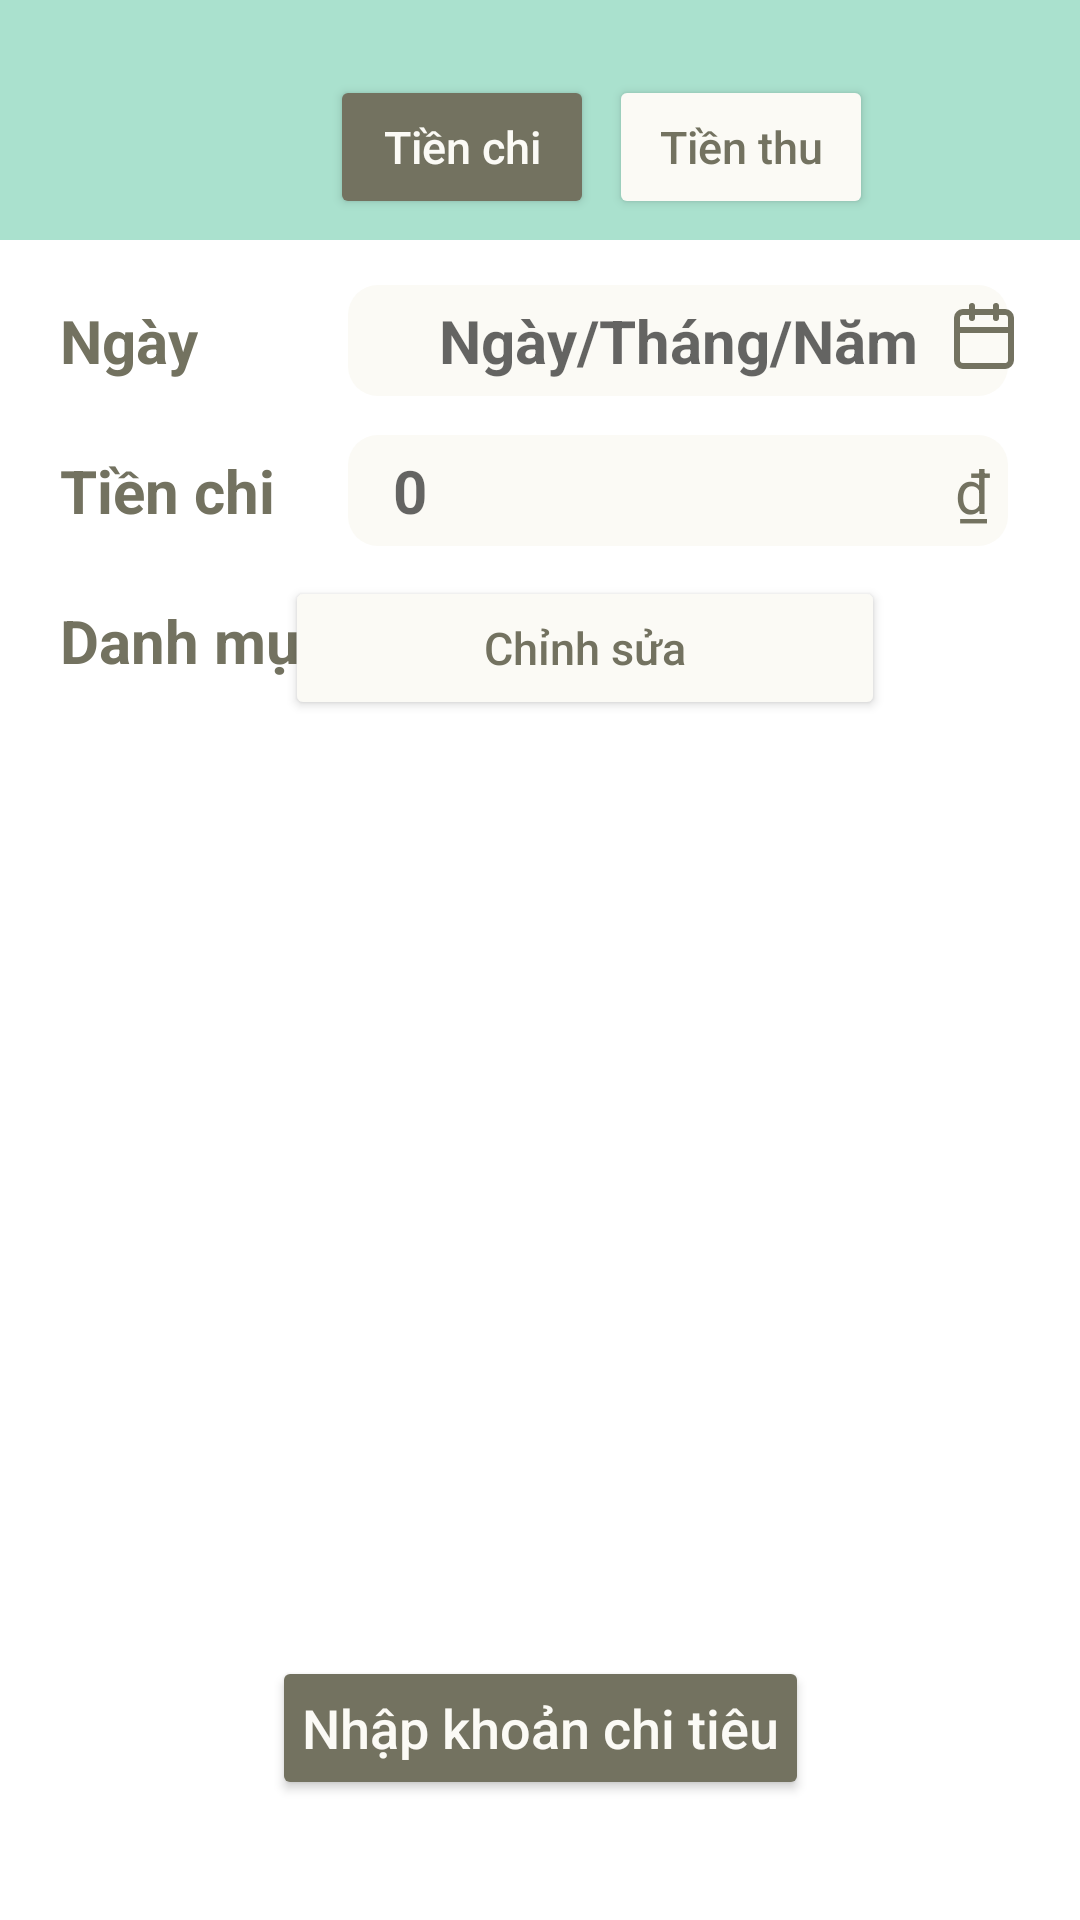

Screen size 1080×1920. Icon name, then its center in pixels as (x,y):
calender: (984,336)
